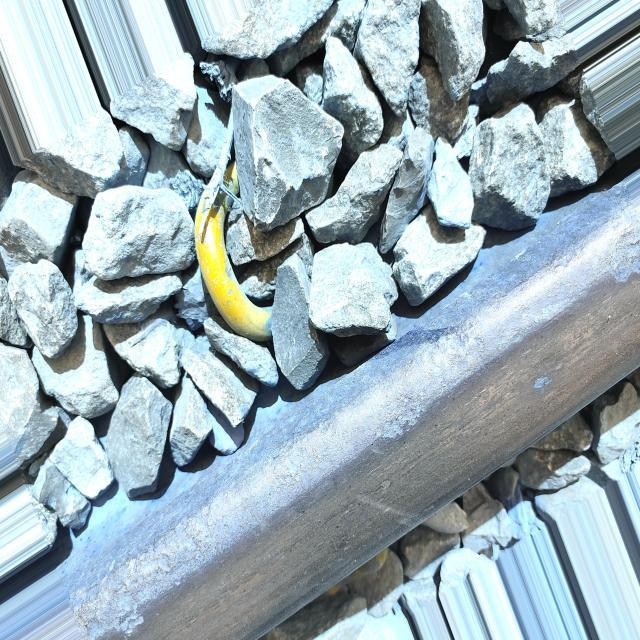Good Fasteners: (195, 115, 270, 340)
